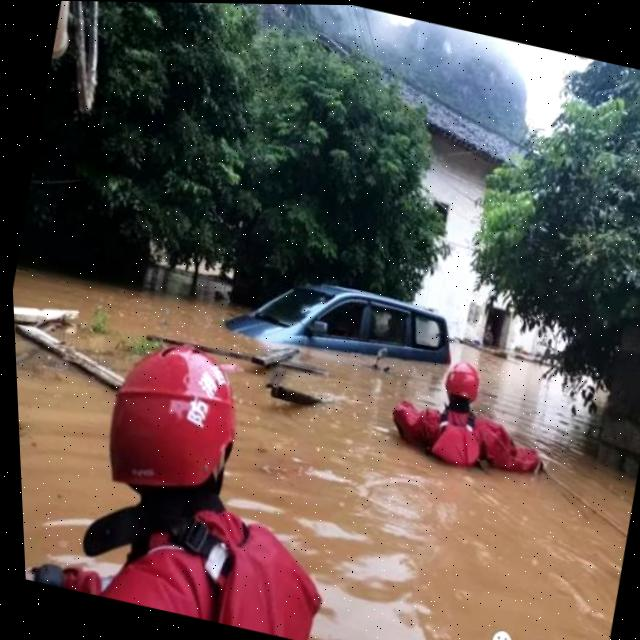rescuer: (37, 296, 377, 640), (362, 315, 586, 514)
